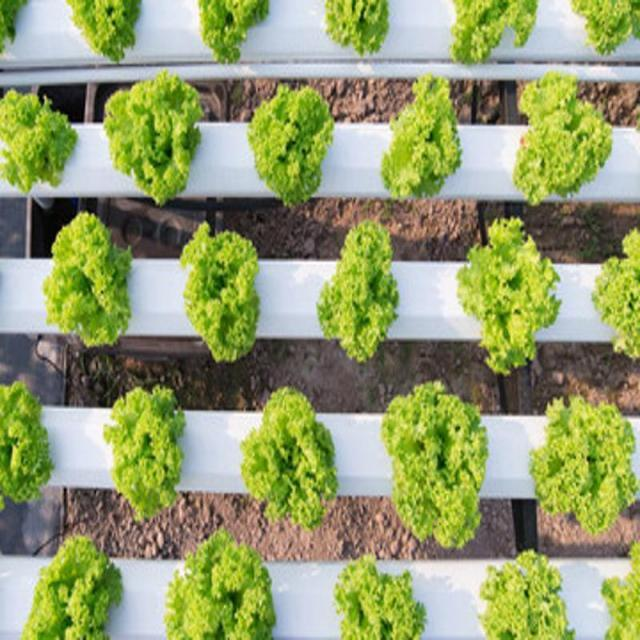Lettuce: (452, 210, 565, 378), (376, 377, 486, 548), (525, 385, 640, 535), (234, 382, 344, 538), (98, 65, 207, 215), (172, 208, 265, 367), (312, 215, 405, 368), (517, 70, 615, 212), (97, 380, 190, 527), (44, 210, 134, 355), (376, 68, 462, 212), (170, 530, 282, 640), (245, 82, 335, 213), (21, 531, 125, 640), (332, 545, 433, 640), (473, 543, 571, 640), (0, 83, 75, 200), (439, 0, 558, 73), (588, 219, 640, 371), (0, 378, 55, 514), (52, 0, 160, 65), (191, 0, 274, 66), (593, 538, 640, 640), (321, 0, 395, 58), (578, 0, 638, 66)
